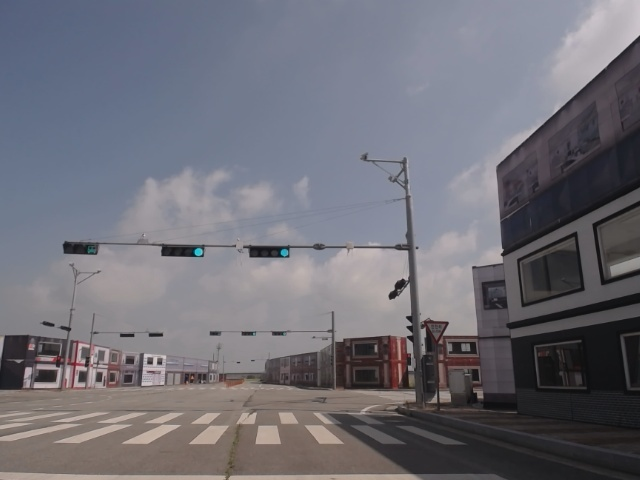straight_green_4: (160, 245, 204, 257), (248, 246, 290, 257)
